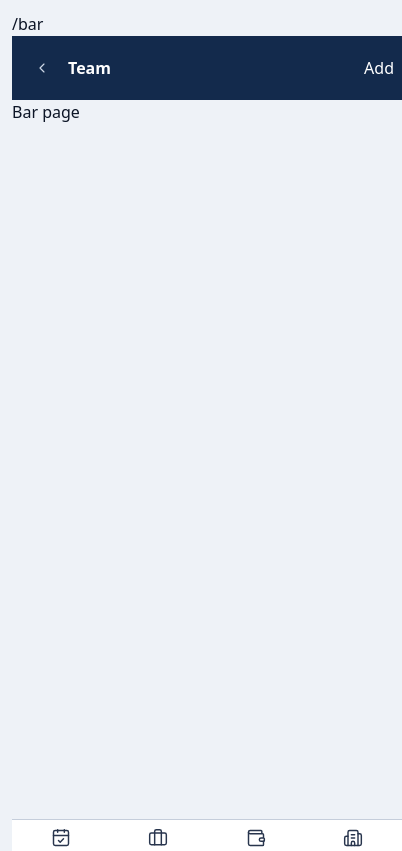
phone bar (A-82) › useMobileBar swaps in back + title + action, and the default returns on unmount
The width and height of the screenshot is (402, 851).
Check: the button "Add" is shown, box [364,56,394,80]
Click the button named "Back" at (42, 68), box [20,46,64,90]
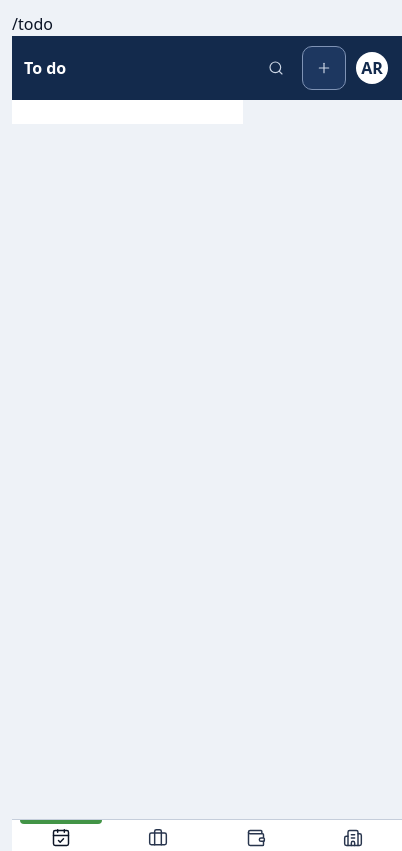
Check: the text with test id "where" reads "/todo", box [12,13,53,35]
Check: the button "Back" is gone
Check: the button named "Search" is shown, box [254,46,298,90]
